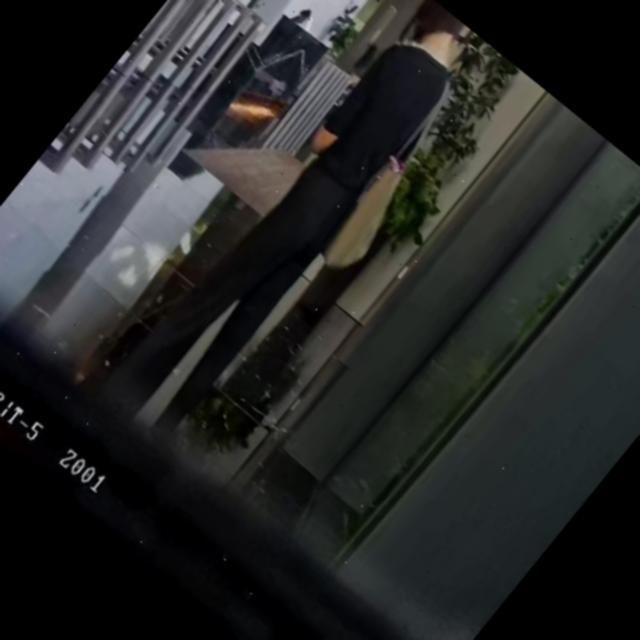person: (92, 0, 497, 459), (290, 4, 314, 30)
